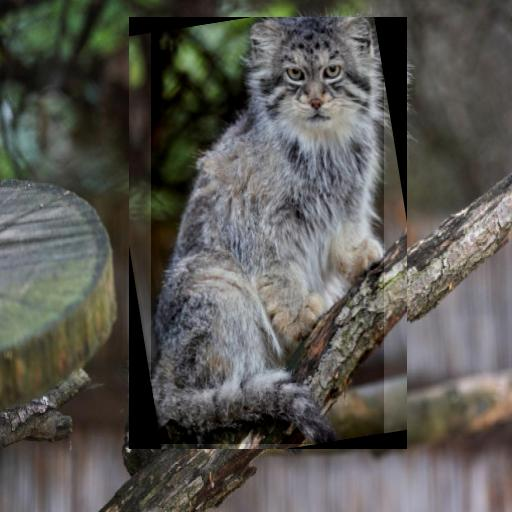manul: (152, 17, 384, 444)
